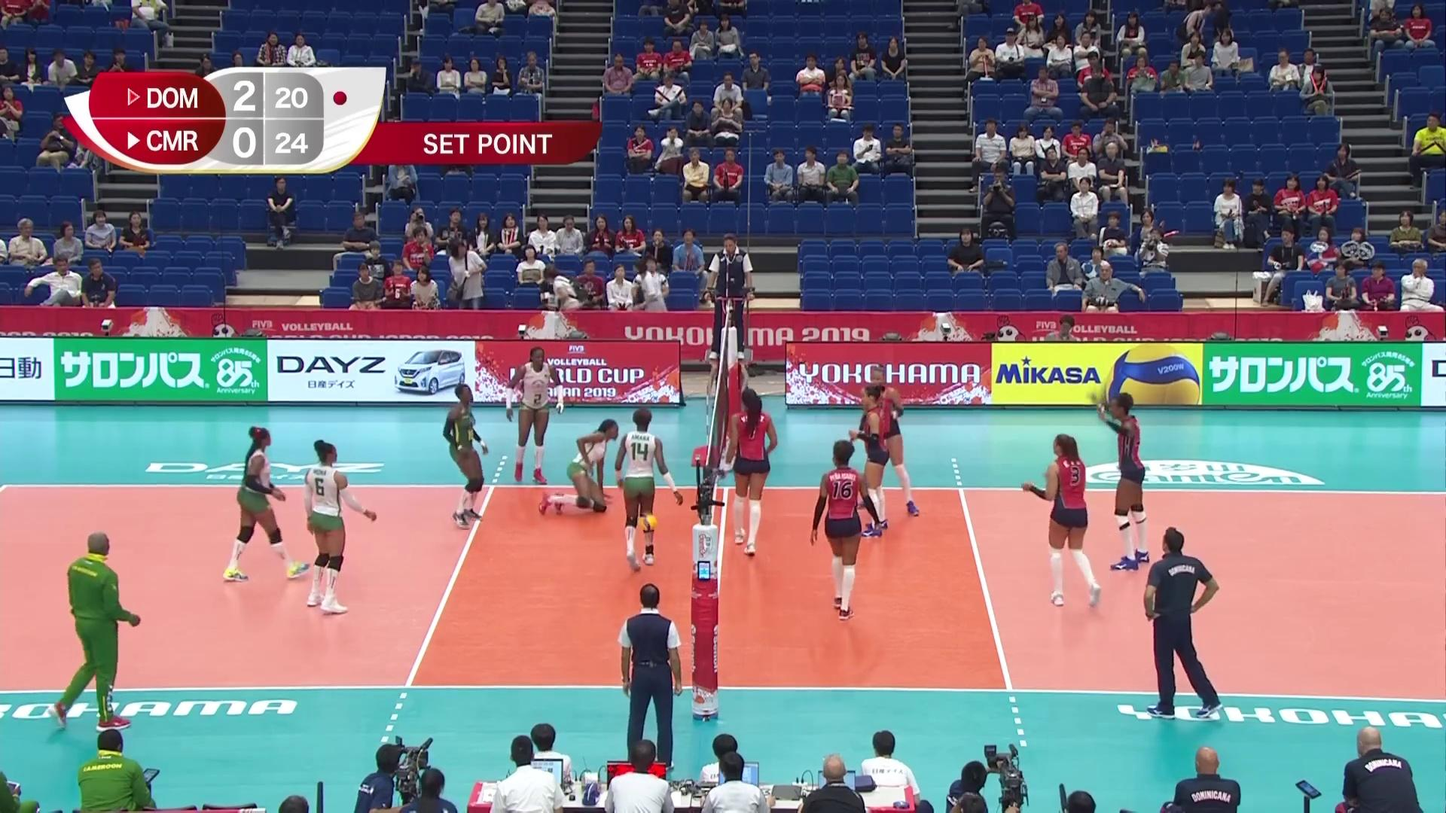player: (1029, 431, 1104, 610), (227, 427, 310, 580), (810, 444, 880, 620), (306, 441, 373, 616), (614, 410, 679, 570), (853, 365, 920, 516), (1095, 392, 1148, 571), (725, 389, 779, 559), (542, 418, 619, 517), (507, 346, 563, 479), (441, 386, 488, 527), (852, 386, 894, 537)
refree: (619, 582, 682, 769), (708, 235, 753, 355)
